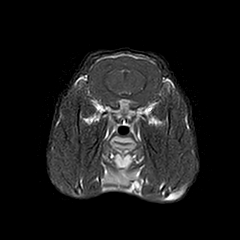Brain: (77, 26, 176, 124)
